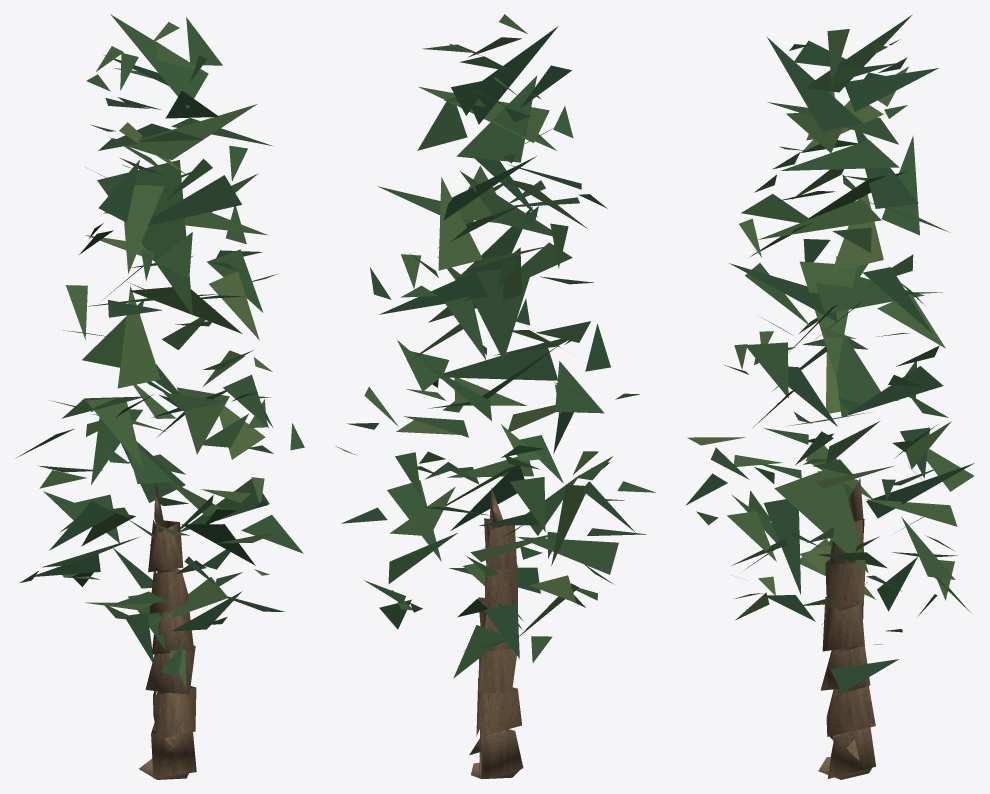
Rendered from tree-cypress-1.glb.
3 renders of one model, left to right at view 1: azimuth 30°, elevation 25°; view 2: azimuth 150°, elevation 25°; view 3: azimuth 270°, elevation 25°, orthographic.
Parts seen in each view (by area): view 1: 翠柏 · 立体叶冠, 翠柏 · 树干与枝系; view 2: 翠柏 · 立体叶冠, 翠柏 · 树干与枝系; view 3: 翠柏 · 立体叶冠, 翠柏 · 树干与枝系.
Boxes of the visible parts, x1,y1,x2,y2 form: 翠柏 · 立体叶冠: (15,14,304,689); 翠柏 · 树干与枝系: (139,483,196,779); 翠柏 · 立体叶冠: (335,14,655,678); 翠柏 · 树干与枝系: (469,487,523,778); 翠柏 · 立体叶冠: (685,14,974,692); 翠柏 · 树干与枝系: (818,478,875,779).
Size of the model in its own units: 3.56 by 9.05 by 3.21.
Materials: 5 (1 with a texture image).
